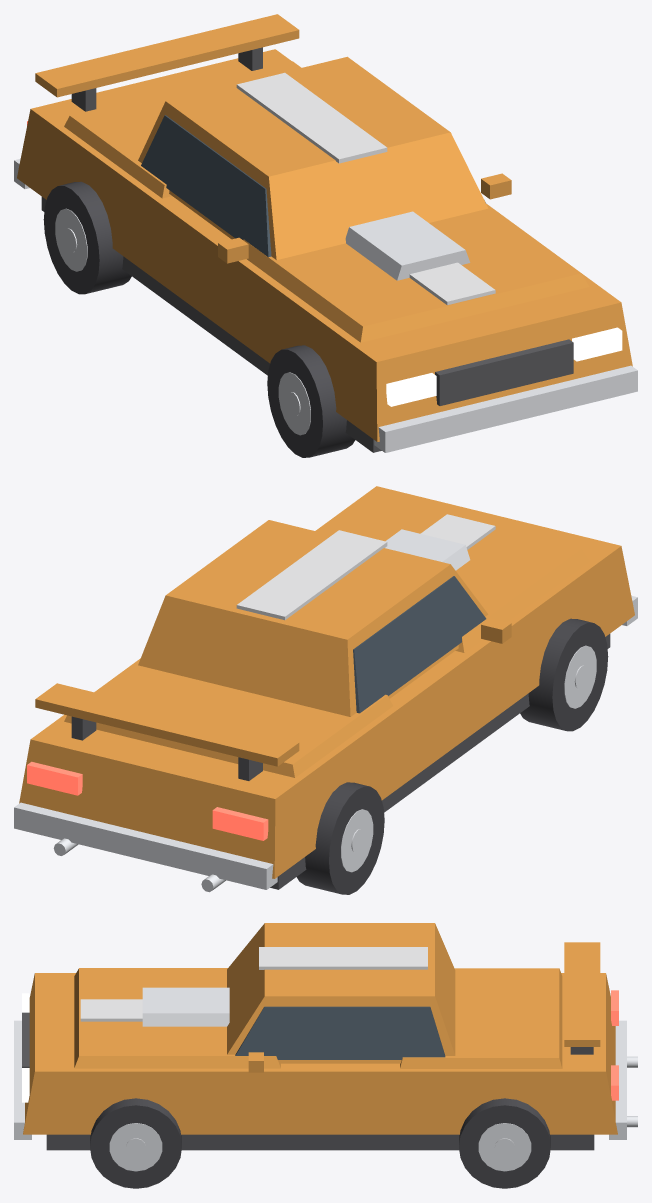
The model's file is car_hotring.glb.
3 views of the same model, one above another, from view 1: azimuth 30°, elevation 25°; view 2: azimuth 150°, elevation 25°; view 3: azimuth 270°, elevation 25° (orthographic). The views are drawn at different scales.
Visible parts, largest first — view 1: VehicleRoot; view 2: VehicleRoot; view 3: VehicleRoot.
Boxes of the visible parts, left/top/right/bottom form: VehicleRoot: left=14, top=14, right=637, bottom=457; VehicleRoot: left=14, top=486, right=637, bottom=894; VehicleRoot: left=14, top=923, right=637, bottom=1188.
Size of the model in its own units: 2.15 by 1.5 by 4.88.
